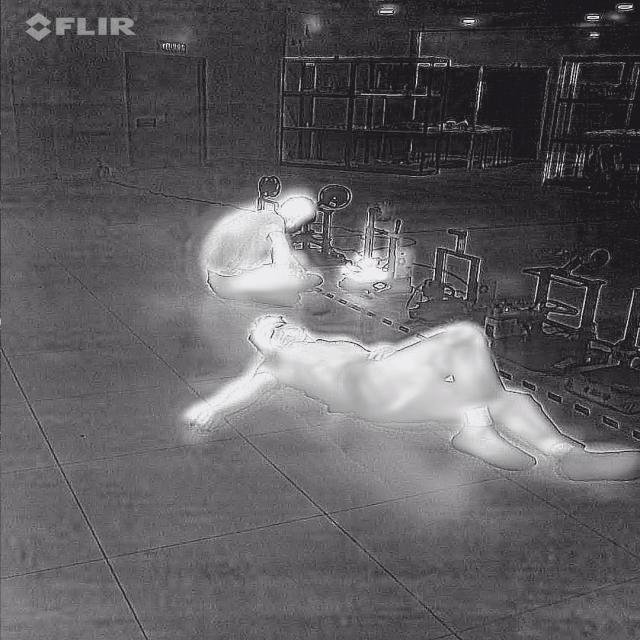Victim: (161, 308, 640, 486), (178, 176, 342, 310)
